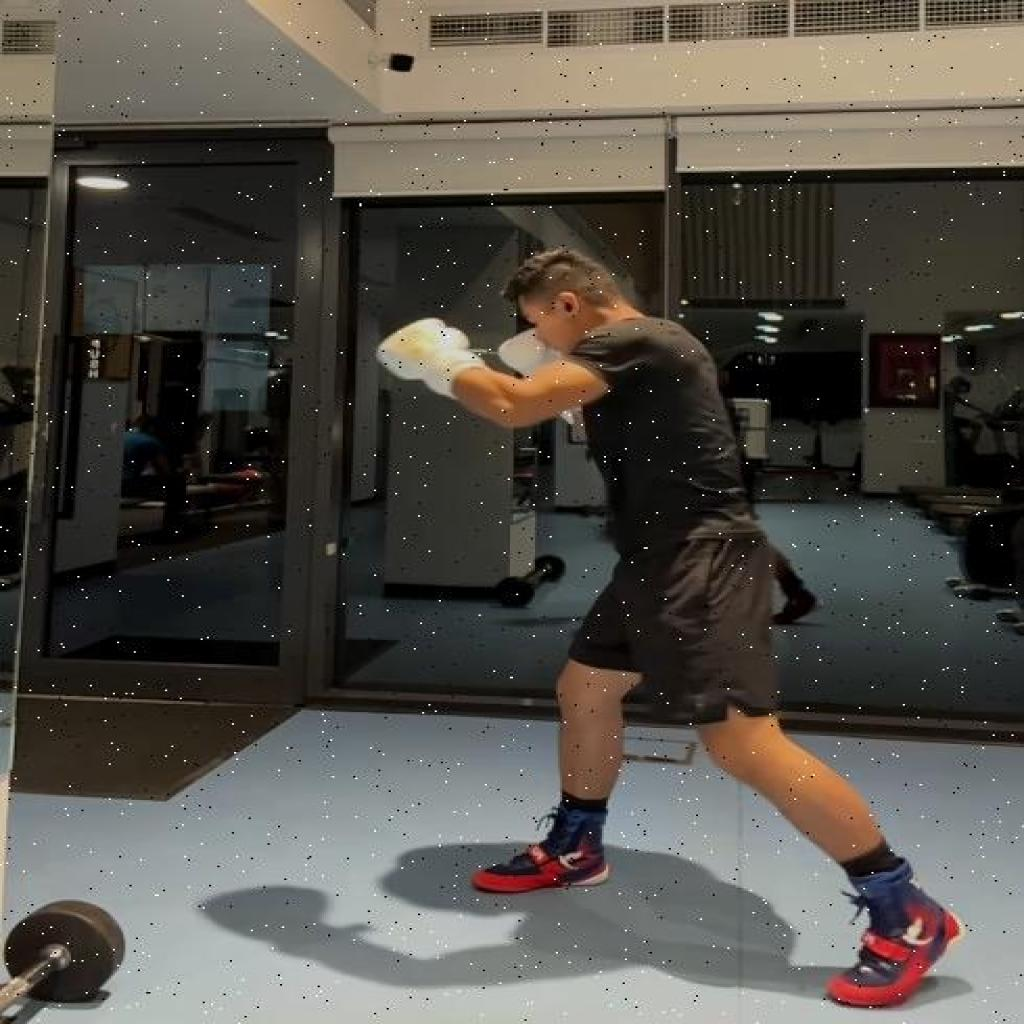no punch: (368, 245, 968, 1011)
